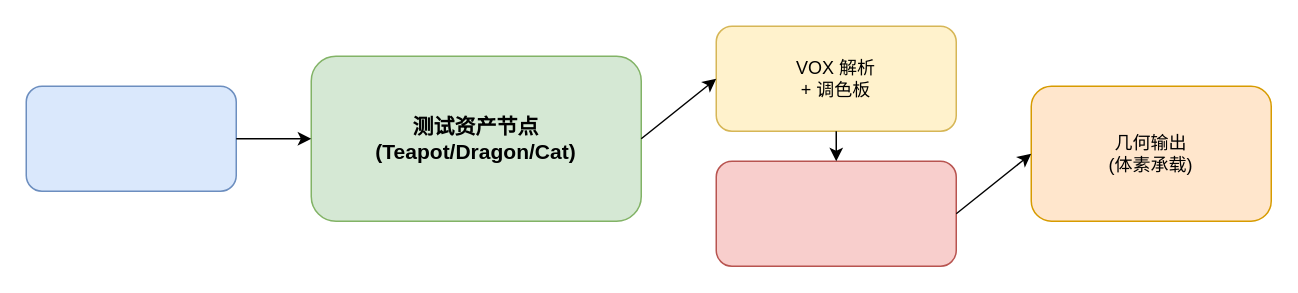
Image size: 1298x293. Some labels were removed from this diagram. The shapes that lost their labels are listed below. From the top down, each one's box as (x1, y1, x2, y2) in pixels, then its label:
(25, 85, 236, 191): 内置 .vox 字节
(715, 160, 956, 266): 注册体素网格 (渲染缓存)
